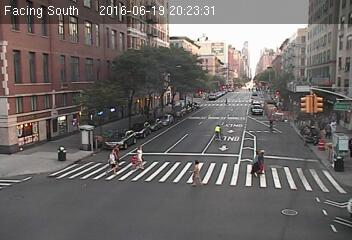neg: (187, 62, 211, 93), (150, 90, 173, 121), (322, 52, 344, 80), (233, 67, 253, 93), (159, 22, 179, 48), (231, 21, 249, 45), (300, 46, 317, 69), (47, 137, 62, 157), (113, 103, 126, 121), (305, 86, 317, 102)
pos: (185, 157, 209, 189), (255, 149, 276, 176), (103, 148, 123, 175), (132, 144, 151, 170), (263, 112, 281, 135), (210, 120, 227, 143), (220, 95, 230, 107)
